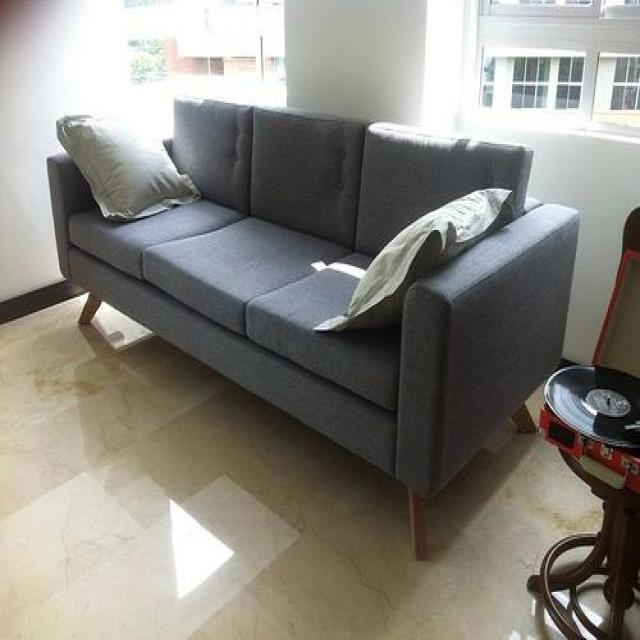sofa: (45, 91, 580, 559)
